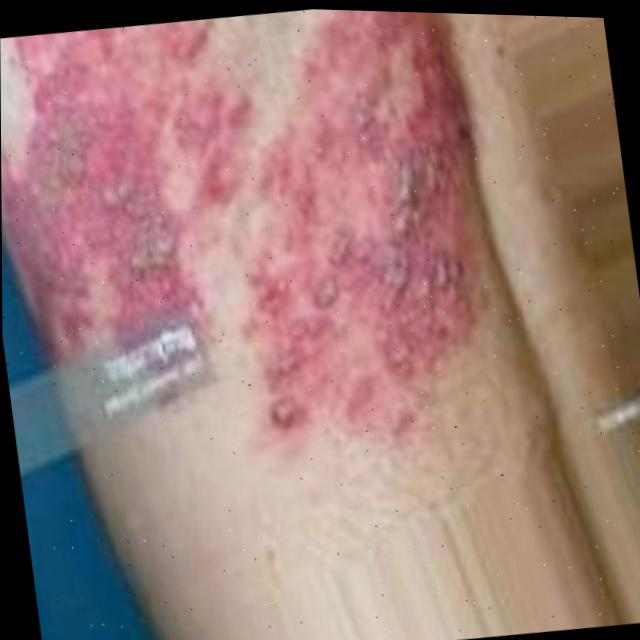Shingles: (209, 6, 500, 454), (0, 8, 282, 414)
